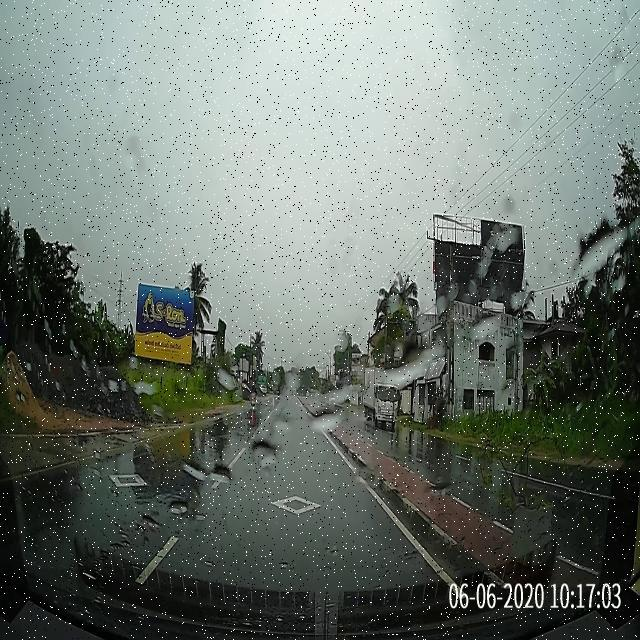diamond: (160, 480, 429, 548)
